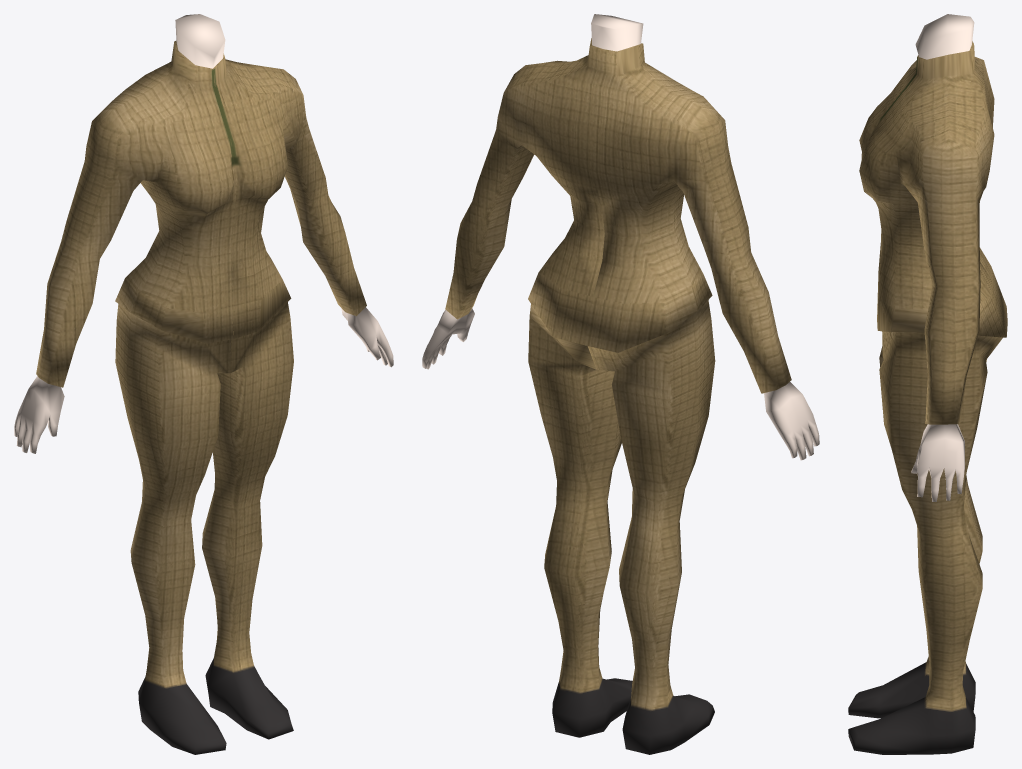
File: W-Fliz.fbx
The picture shows the model from 3 angles, left to right: view 1: azimuth 30°, elevation 25°; view 2: azimuth 150°, elevation 25°; view 3: azimuth 270°, elevation 25°; orthographic projection. The views are drawn at different scales.
Parts seen in each view (by area): view 1: W-Fliz; view 2: W-Fliz; view 3: W-Fliz.
Part boxes in pixels (left/top/right/bottom): W-Fliz: left=14, top=14, right=393, bottom=754; W-Fliz: left=422, top=14, right=819, bottom=754; W-Fliz: left=848, top=14, right=1007, bottom=754.
Bounding box in the file's own units: 100 × 180 × 36.95.
Materials: 1 (1 with a texture image).
